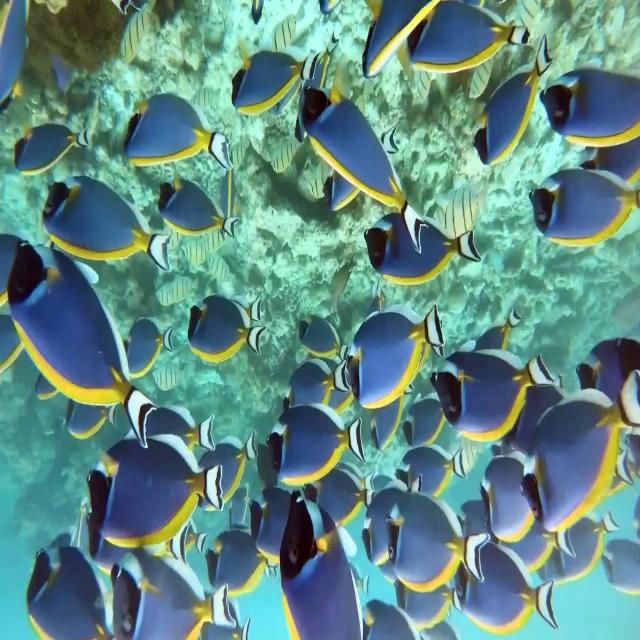fish: (11, 230, 155, 444), (298, 84, 433, 254), (509, 383, 640, 538), (109, 518, 243, 640), (88, 440, 230, 552), (436, 339, 564, 460), (36, 184, 167, 286), (280, 490, 364, 640), (384, 483, 489, 597), (23, 536, 126, 640), (526, 162, 638, 257), (417, 0, 530, 94), (452, 548, 562, 640), (266, 400, 368, 498), (339, 316, 442, 413), (464, 51, 550, 167), (537, 70, 640, 162), (362, 215, 484, 287), (122, 94, 234, 172), (361, 0, 445, 80), (157, 176, 238, 250), (232, 50, 318, 118), (15, 111, 91, 185), (186, 306, 276, 368), (209, 520, 275, 601), (555, 513, 615, 588), (395, 588, 455, 640), (606, 537, 640, 607)
